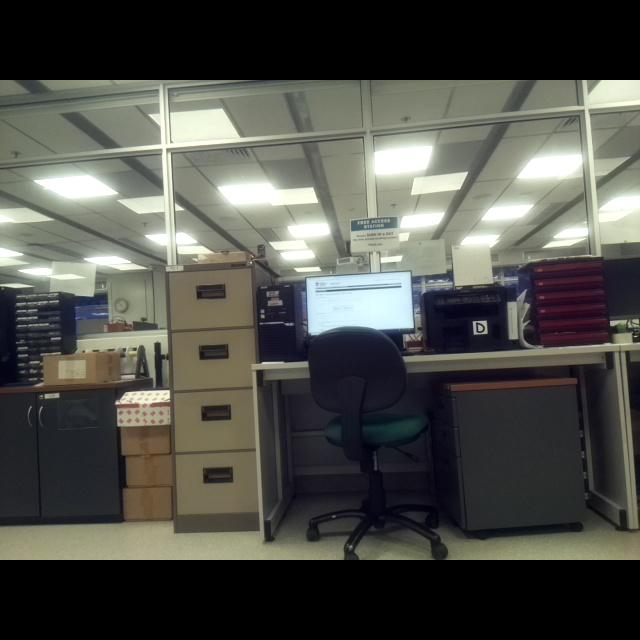D: (475, 321, 485, 334)
